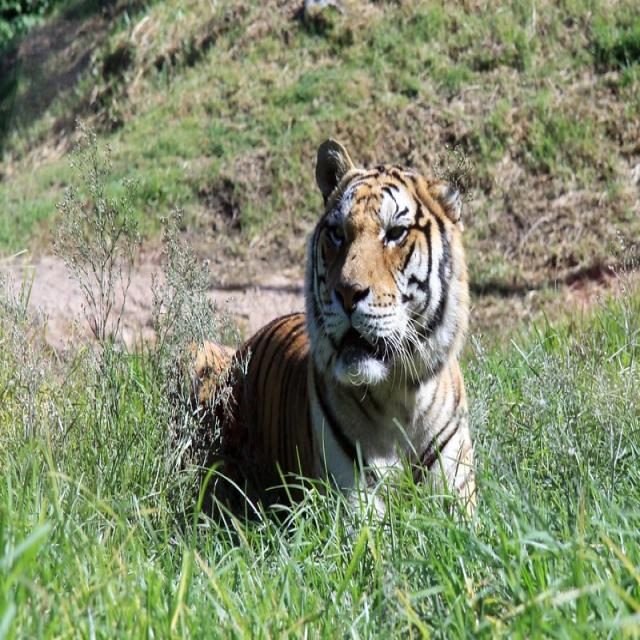Tiger: (170, 143, 476, 533)
